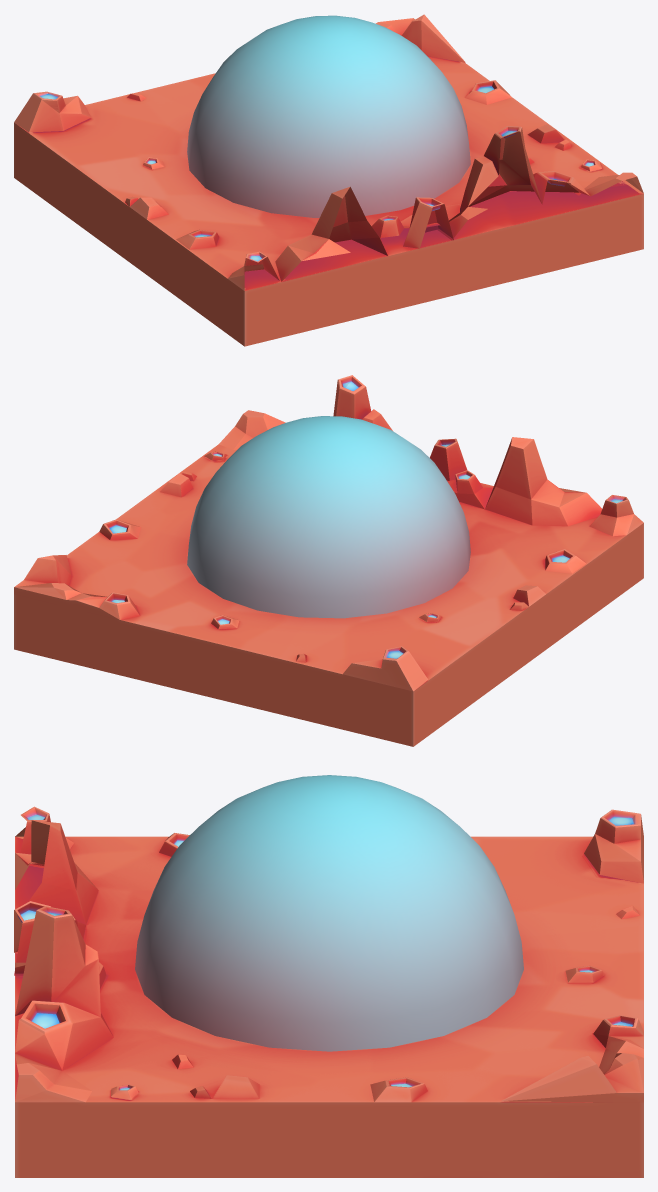
The model's file is outside.fbx.
The picture shows the model from 3 angles, top to bottom: view 1: azimuth 30°, elevation 25°; view 2: azimuth 150°, elevation 25°; view 3: azimuth 270°, elevation 25°; orthographic projection. The views are drawn at different scales.
Visible parts, largest first — view 1: Plane, Glass; view 2: Plane, Glass, Plane_Emi; view 3: Plane, Glass, Plane_Emi.
Boxes of the visible parts, left/top/right/bottom form: Plane: left=14, top=14, right=643, bottom=346; Glass: left=187, top=15, right=470, bottom=217; Plane: left=14, top=375, right=643, bottom=746; Glass: left=187, top=416, right=470, bottom=618; Plane_Emi: left=109, top=381, right=622, bottom=658; Plane: left=14, top=806, right=643, bottom=1177; Glass: left=135, top=775, right=523, bottom=1051; Plane_Emi: left=21, top=814, right=633, bottom=1090.
Bounding box in the file's own units: 6962 × 3077 × 6973.
1 material, 1 textured.
